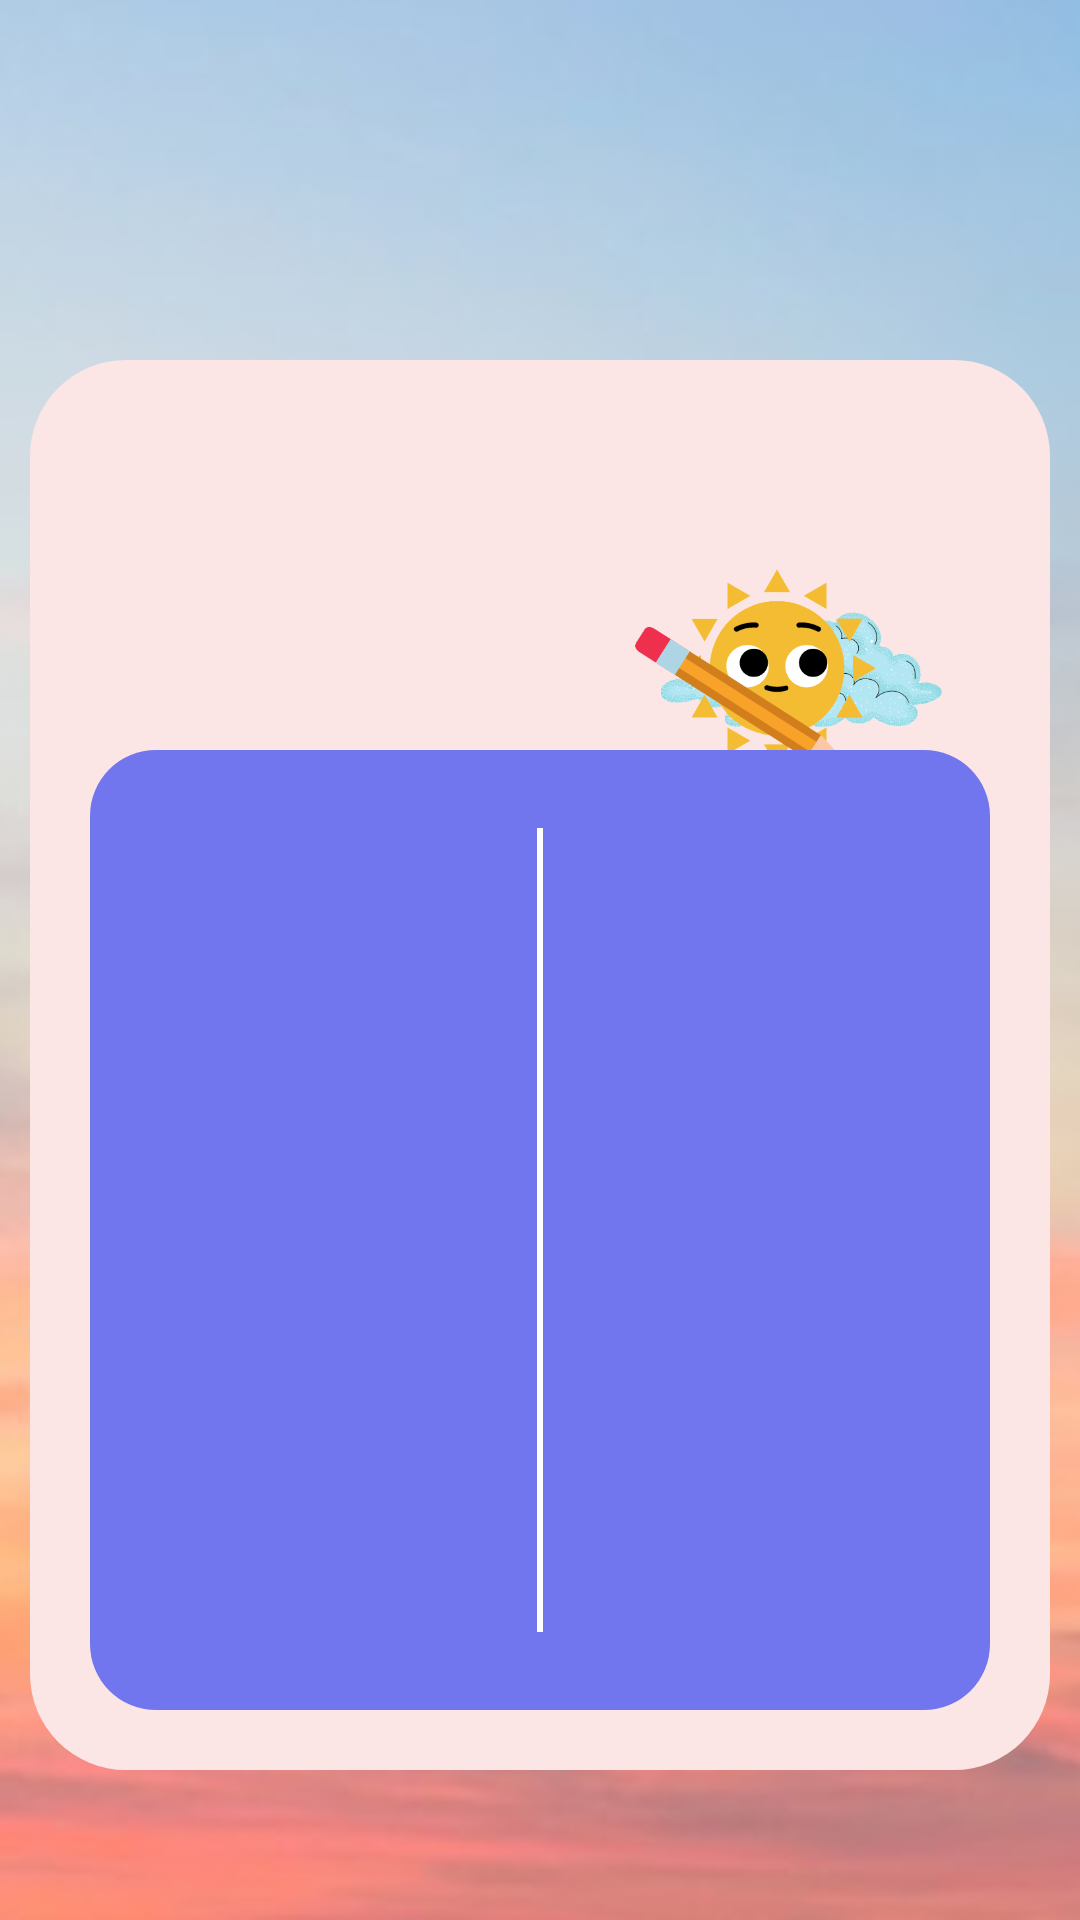

Named icons in this screenshot (1080*1920) and their centers, point (x, y):
Status picture: point (777, 693)
